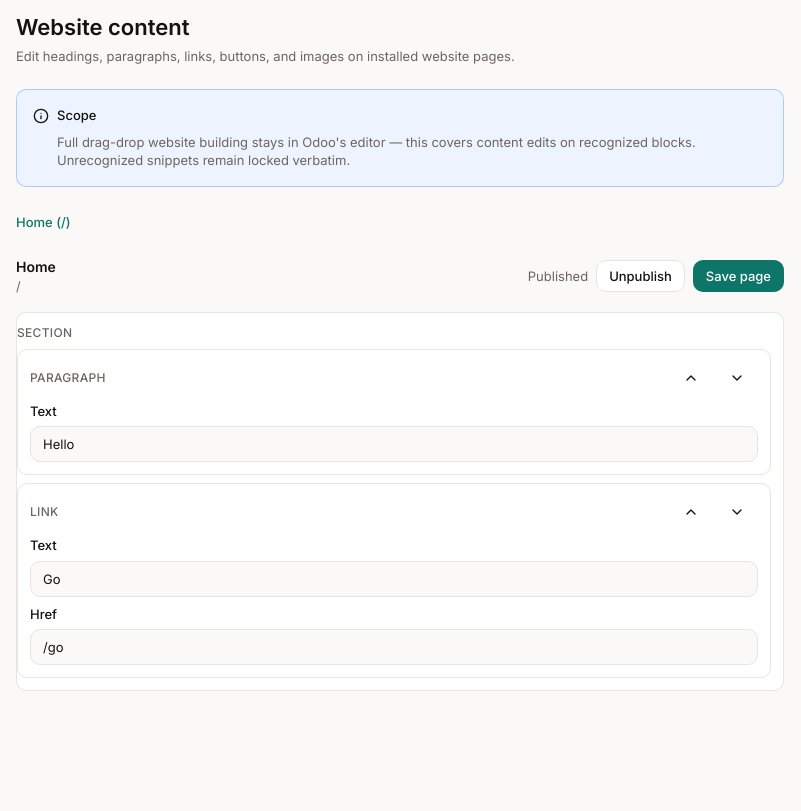
Test case: WebsiteEditor › toggles publish state
What coordinates should you click on to do the following:
click the button with test id "website-publish-toggle"
I would click on:
 (640, 276)
Its box is [596,260,685,292].
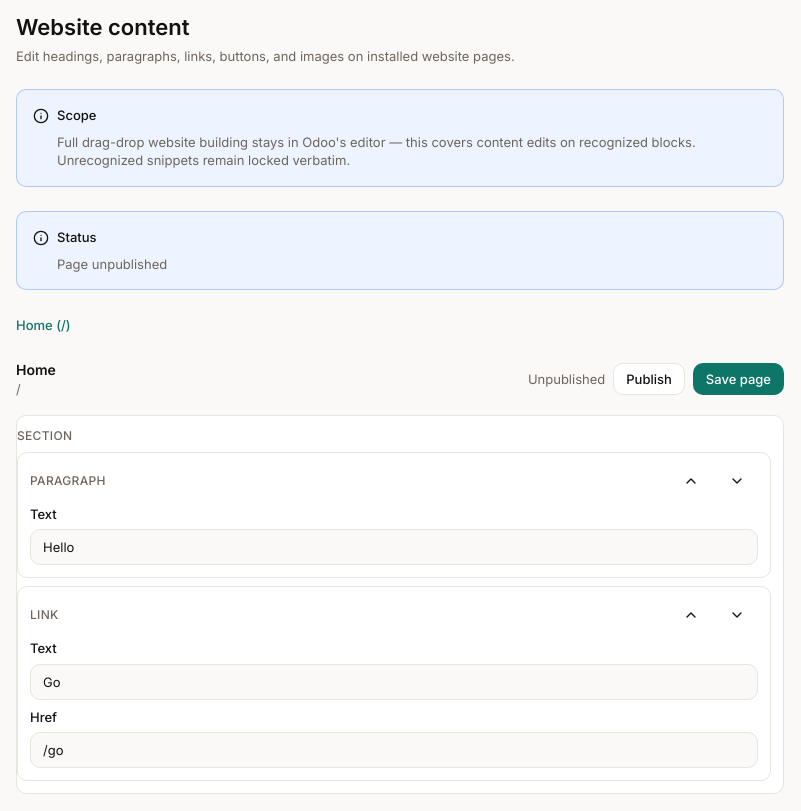
Expected: the text "Page unpublished" is shown, [57,256,167,272]
